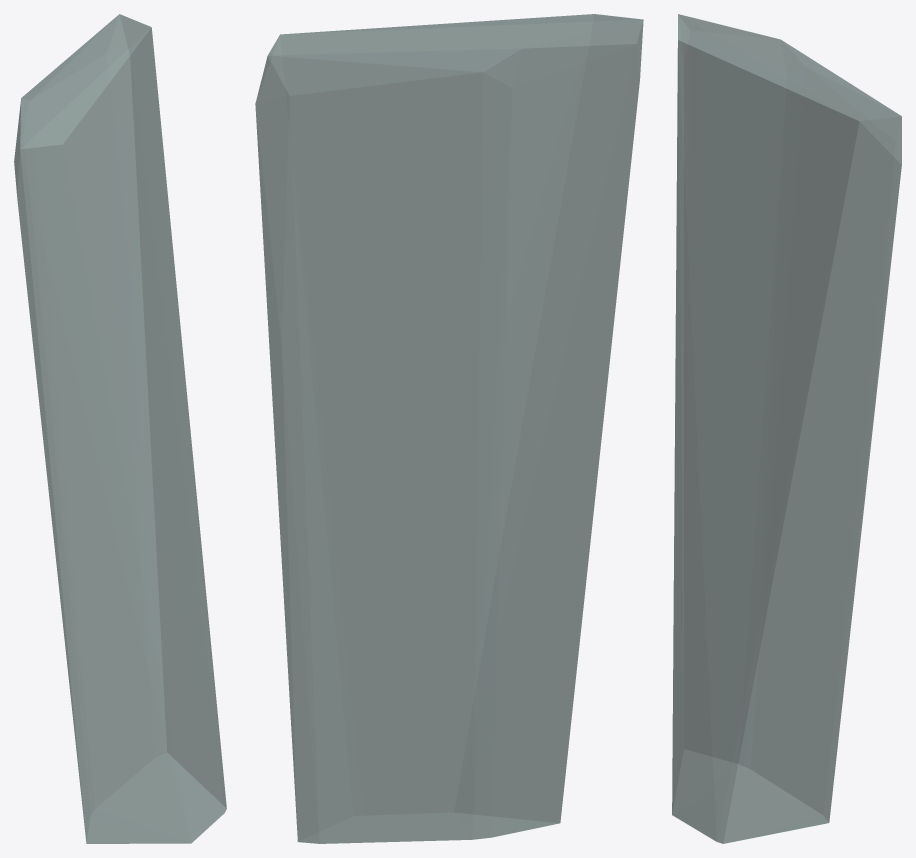
3 views of the same model, side by side, from view 1: azimuth 30°, elevation 25°; view 2: azimuth 150°, elevation 25°; view 3: azimuth 270°, elevation 25° (orthographic). The views are drawn at different scales.
Parts seen in each view (by area): view 1: Shape_IndexedFaceSet.010_Shape_IndexedFaceSet.8289; view 2: Shape_IndexedFaceSet.010_Shape_IndexedFaceSet.8289; view 3: Shape_IndexedFaceSet.010_Shape_IndexedFaceSet.8289.
Boxes of the visible parts, x1=… form: Shape_IndexedFaceSet.010_Shape_IndexedFaceSet.8289: x1=14, y1=14, x2=226, y2=843; Shape_IndexedFaceSet.010_Shape_IndexedFaceSet.8289: x1=255, y1=14, x2=643, y2=843; Shape_IndexedFaceSet.010_Shape_IndexedFaceSet.8289: x1=672, y1=14, x2=901, y2=843.
Size of the model in its own units: 0.2717 by 0.8286 by 0.2396.
